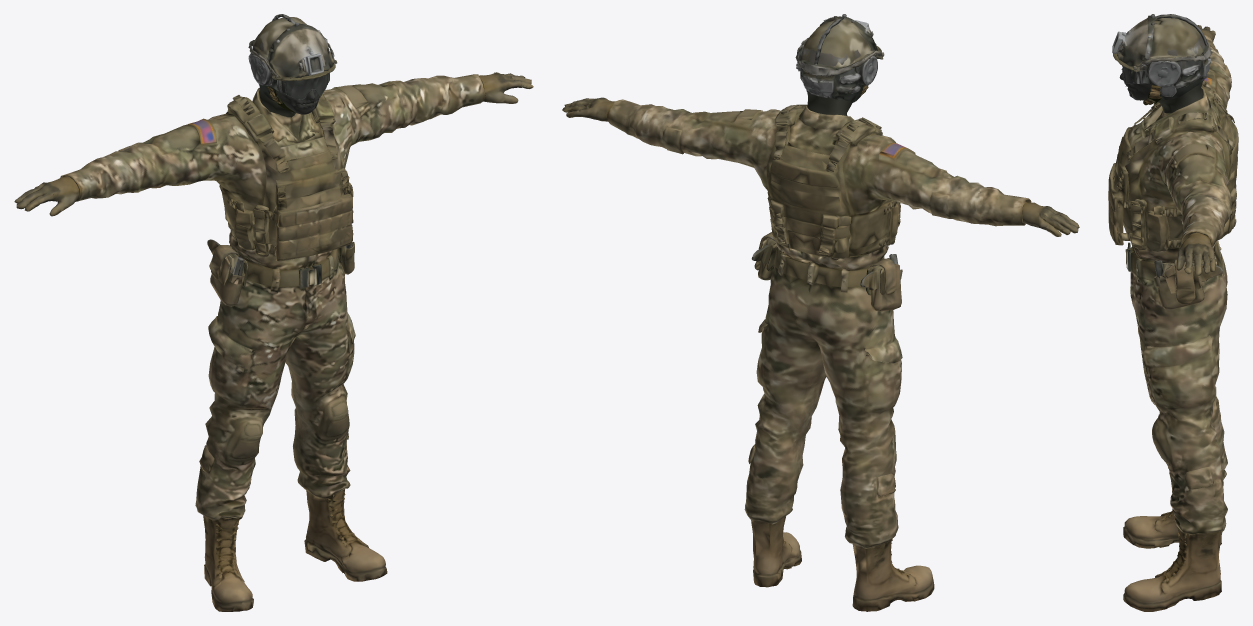
Rendered from Soldier_02_Goggles_Mask.fbx.
3 renders of one model, left to right at view 1: azimuth 30°, elevation 25°; view 2: azimuth 150°, elevation 25°; view 3: azimuth 270°, elevation 25°, orthographic.
Visible parts, largest first — view 1: geometry_0; view 2: geometry_0; view 3: geometry_0.
Boxes of the visible parts, bbox=[...] form: geometry_0: bbox=[14, 14, 533, 611]; geometry_0: bbox=[562, 14, 1079, 611]; geometry_0: bbox=[1108, 14, 1238, 611].
Size of the model in its own units: 90.58 by 95.07 by 20.12.
1 material, 1 textured.
